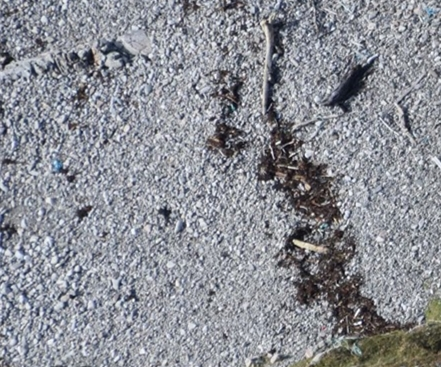straight_bar: (251, 19, 285, 117), (288, 231, 335, 257)
white_in_green: (37, 146, 79, 184)
